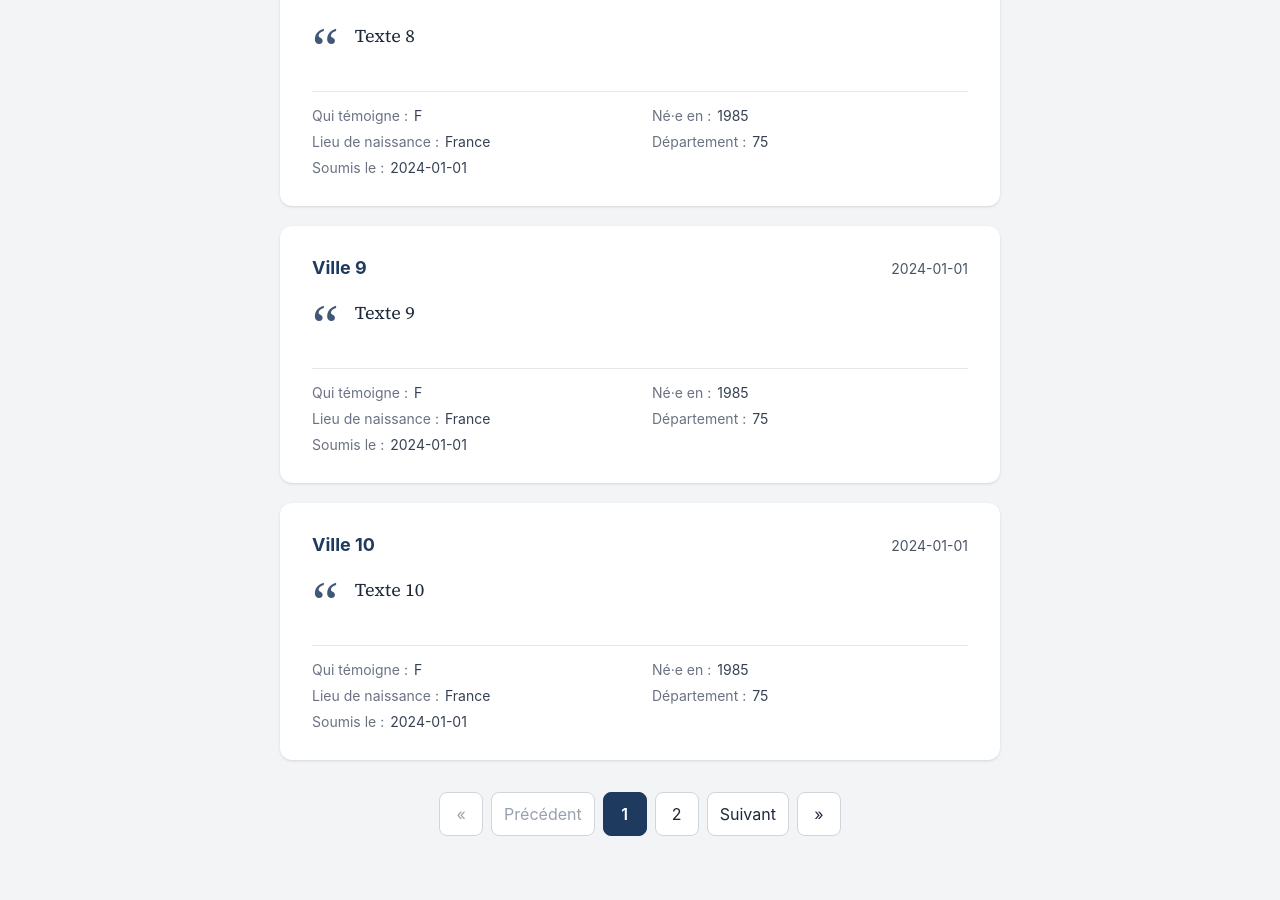
Scenario: Testimonies Page › pagination › navigates back to previous page on Précédent click
(page scrolled)
Click the button "Suivant" at [748, 814], box 707,792 -> 789,836
(page scrolled)
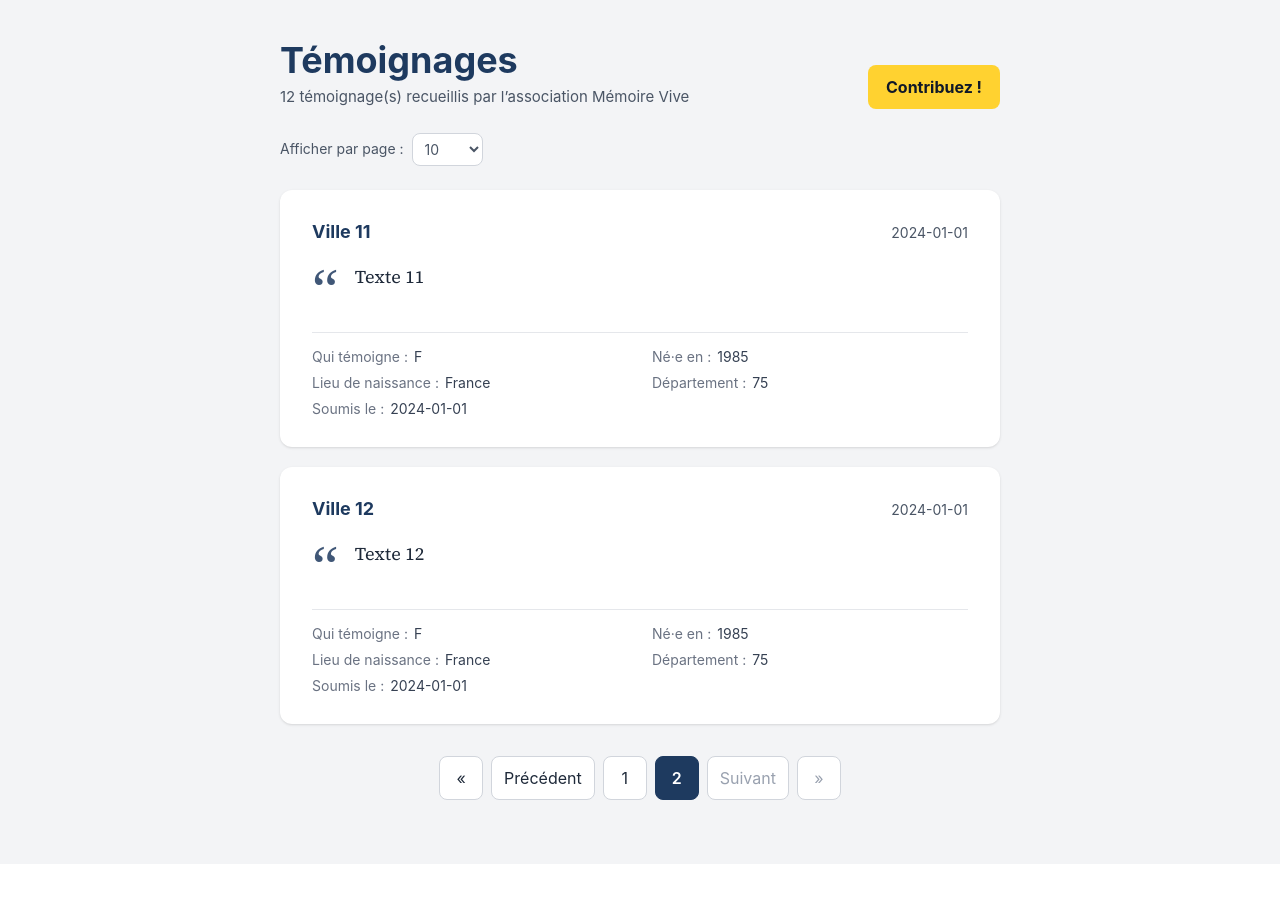
Click the button "Précédent" at [543, 778], box 491,756 -> 595,800
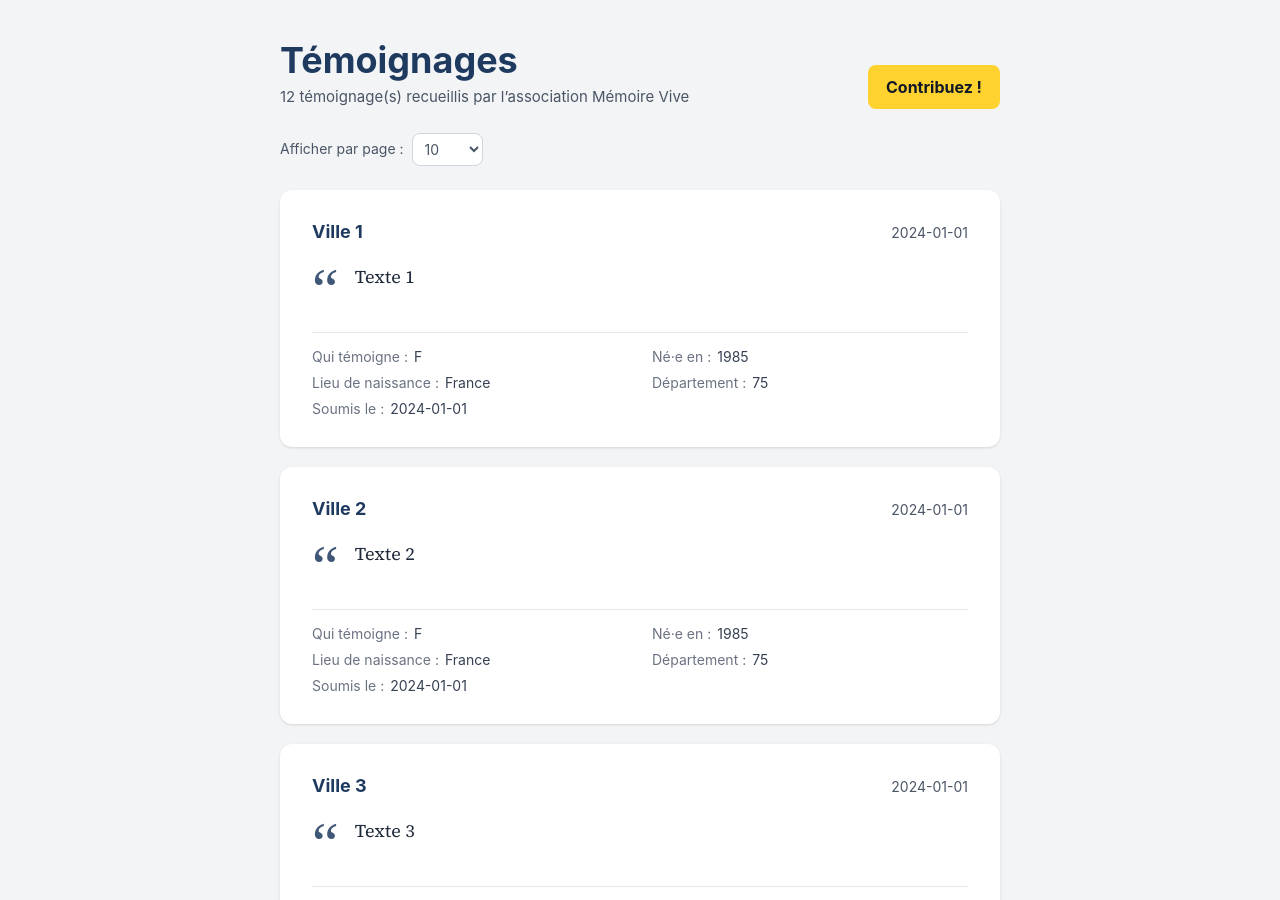
Check: the text "Texte 1" is shown, box 355,262 -> 415,292
Check: the text "Texte 11" is gone
